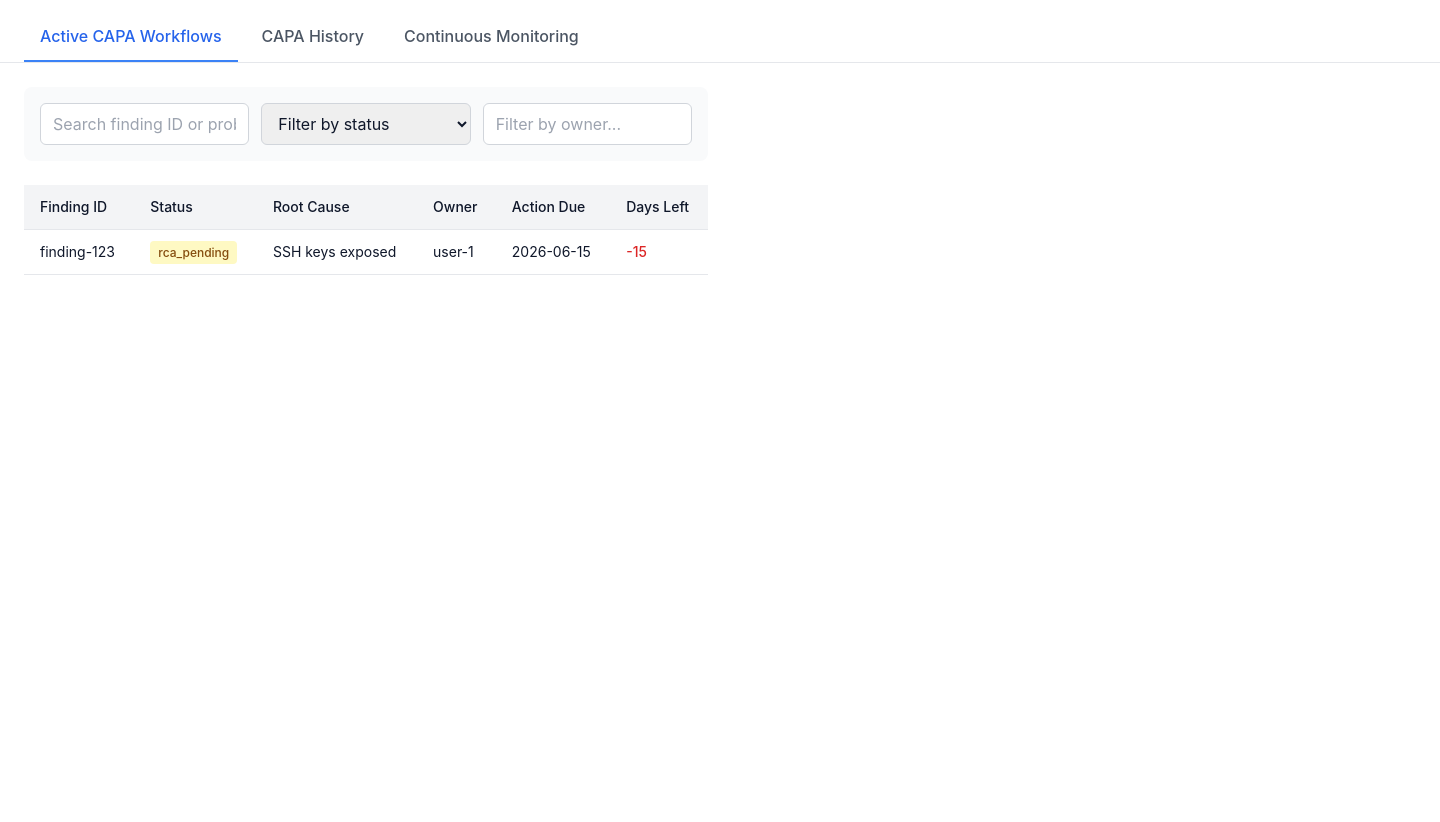
Test case: CapaAndMonitoringTab › History Tab › should allow selecting closed CAPA on History tab
Click the button "CAPA History" at coordinates (313, 37), box [246,12,380,62]
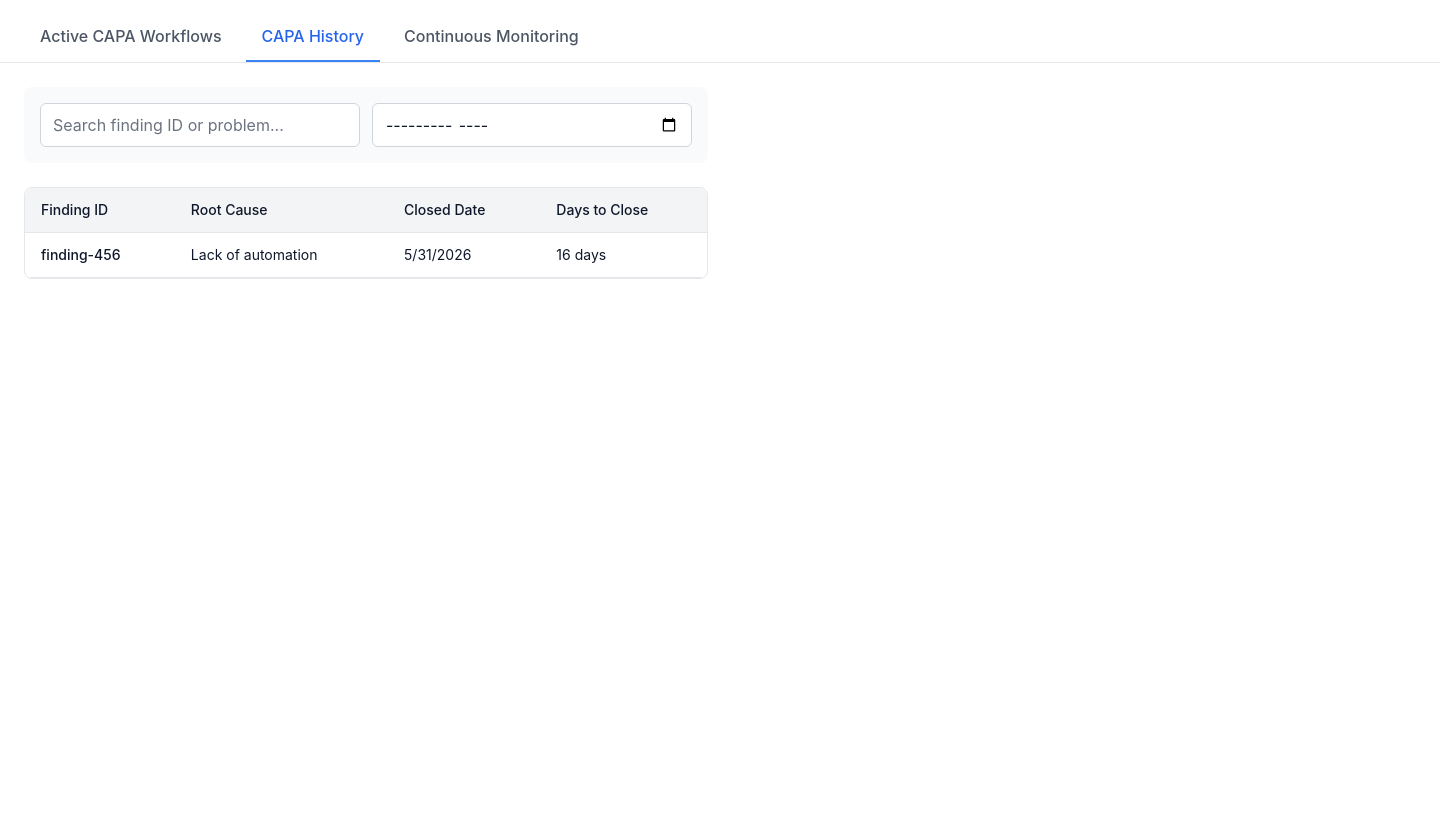
Click the text "finding-456" at coordinates (100, 255), box [25,232,175,278]
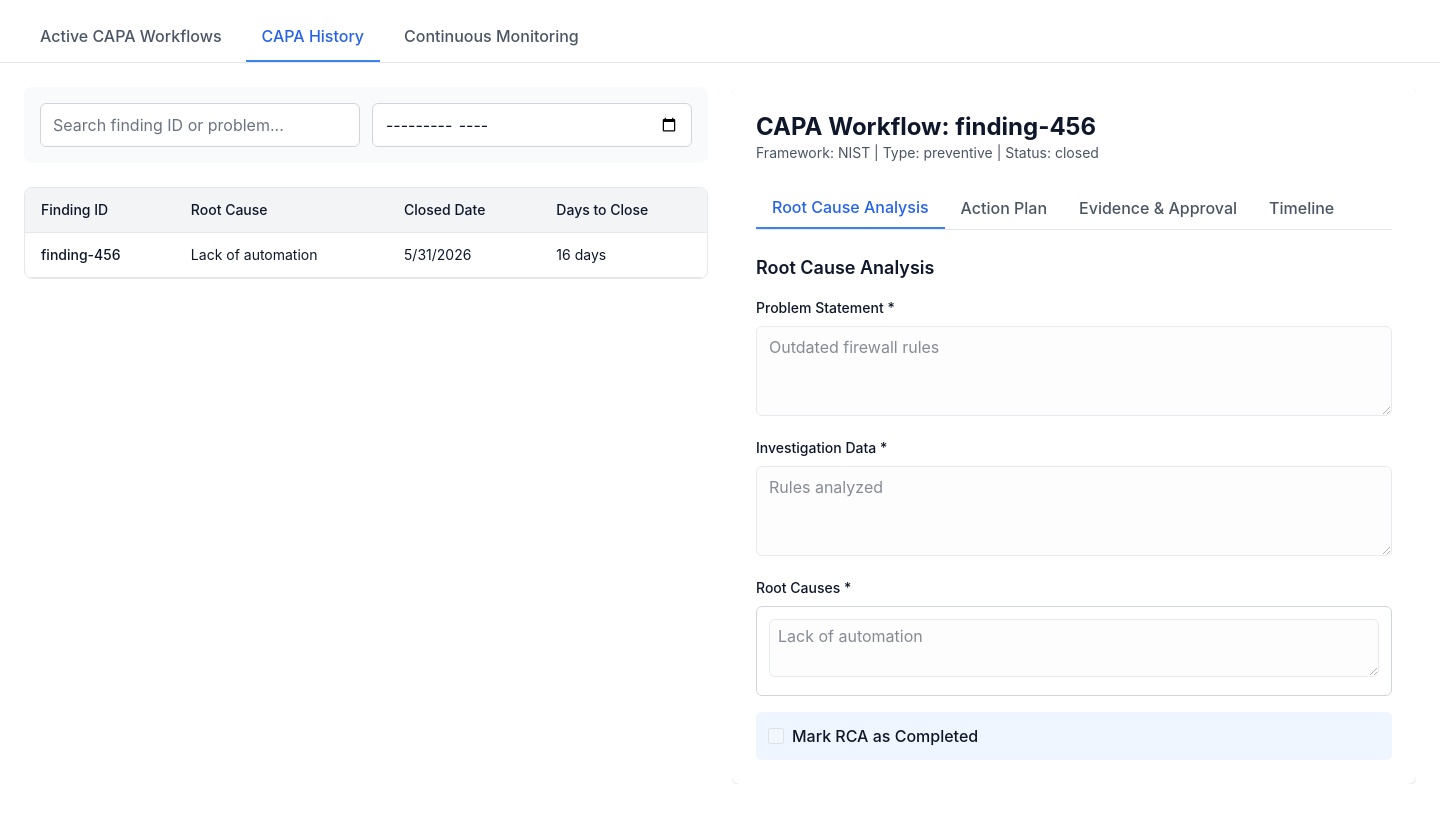
Check: the heading "CAPA Workflow: finding-456" is shown, box [756,112,1096,141]
